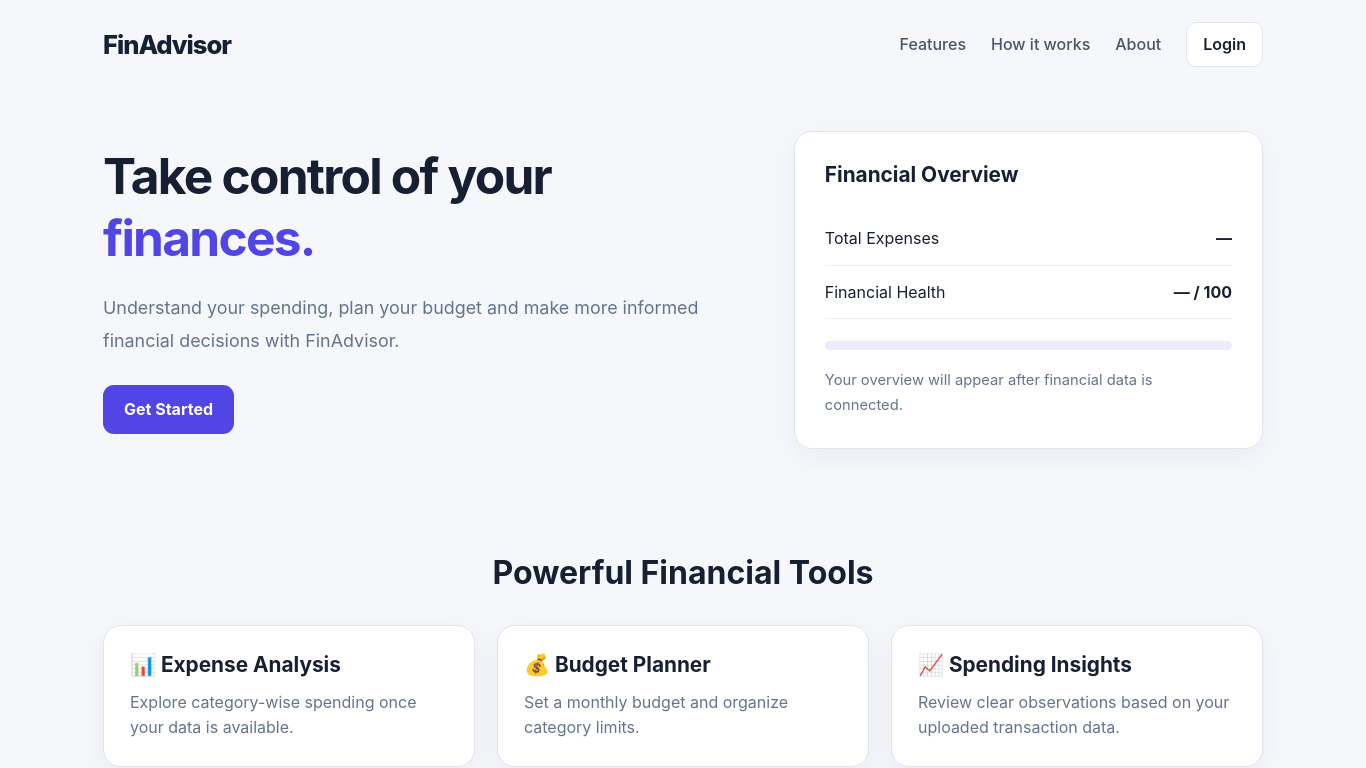
Test case: FinAdvisor app shell › renders the landing page and opens the demo login
Expected: the heading "Take control of your finances." is shown, [103,146,551,268]
Click the button "Get Started".
click(168, 409)  # box [103,385,234,434]
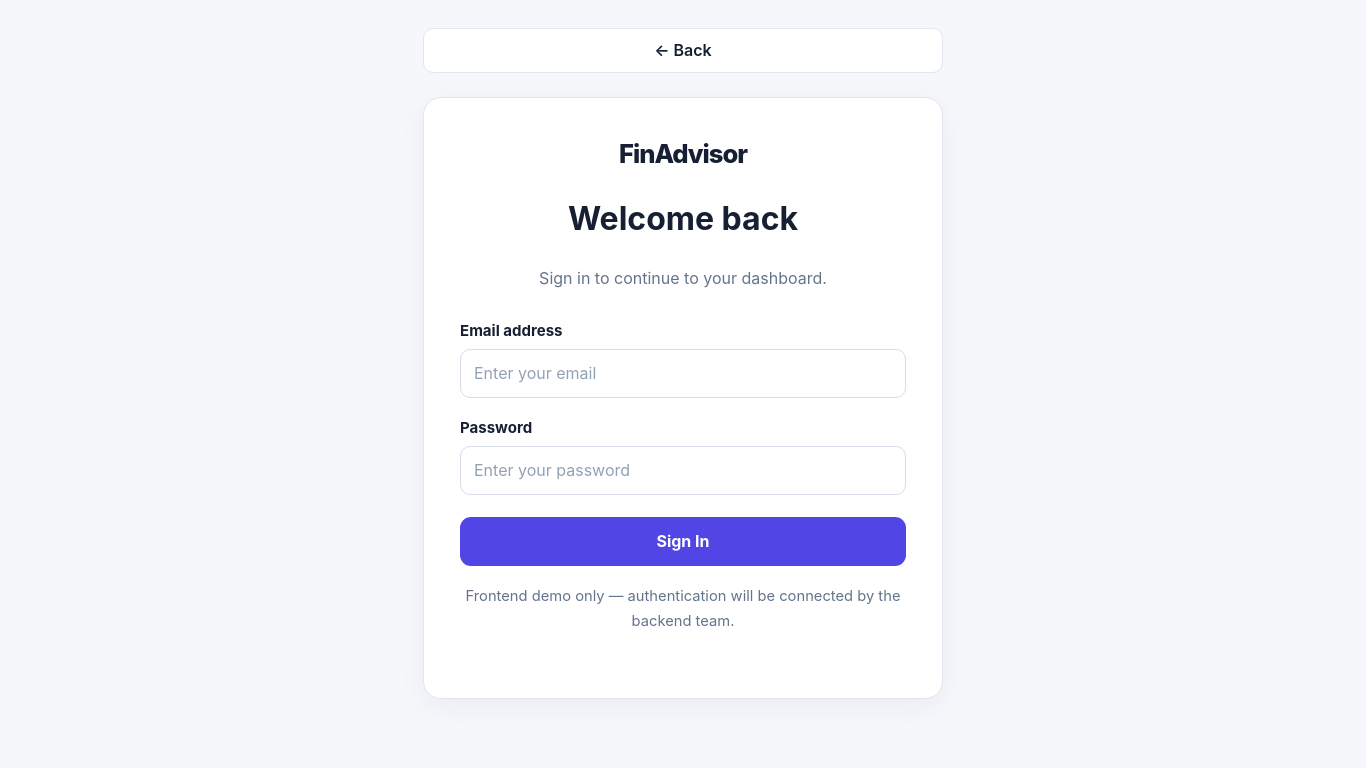
Now the heading "Welcome back" is shown, box [568,200,798,238]
